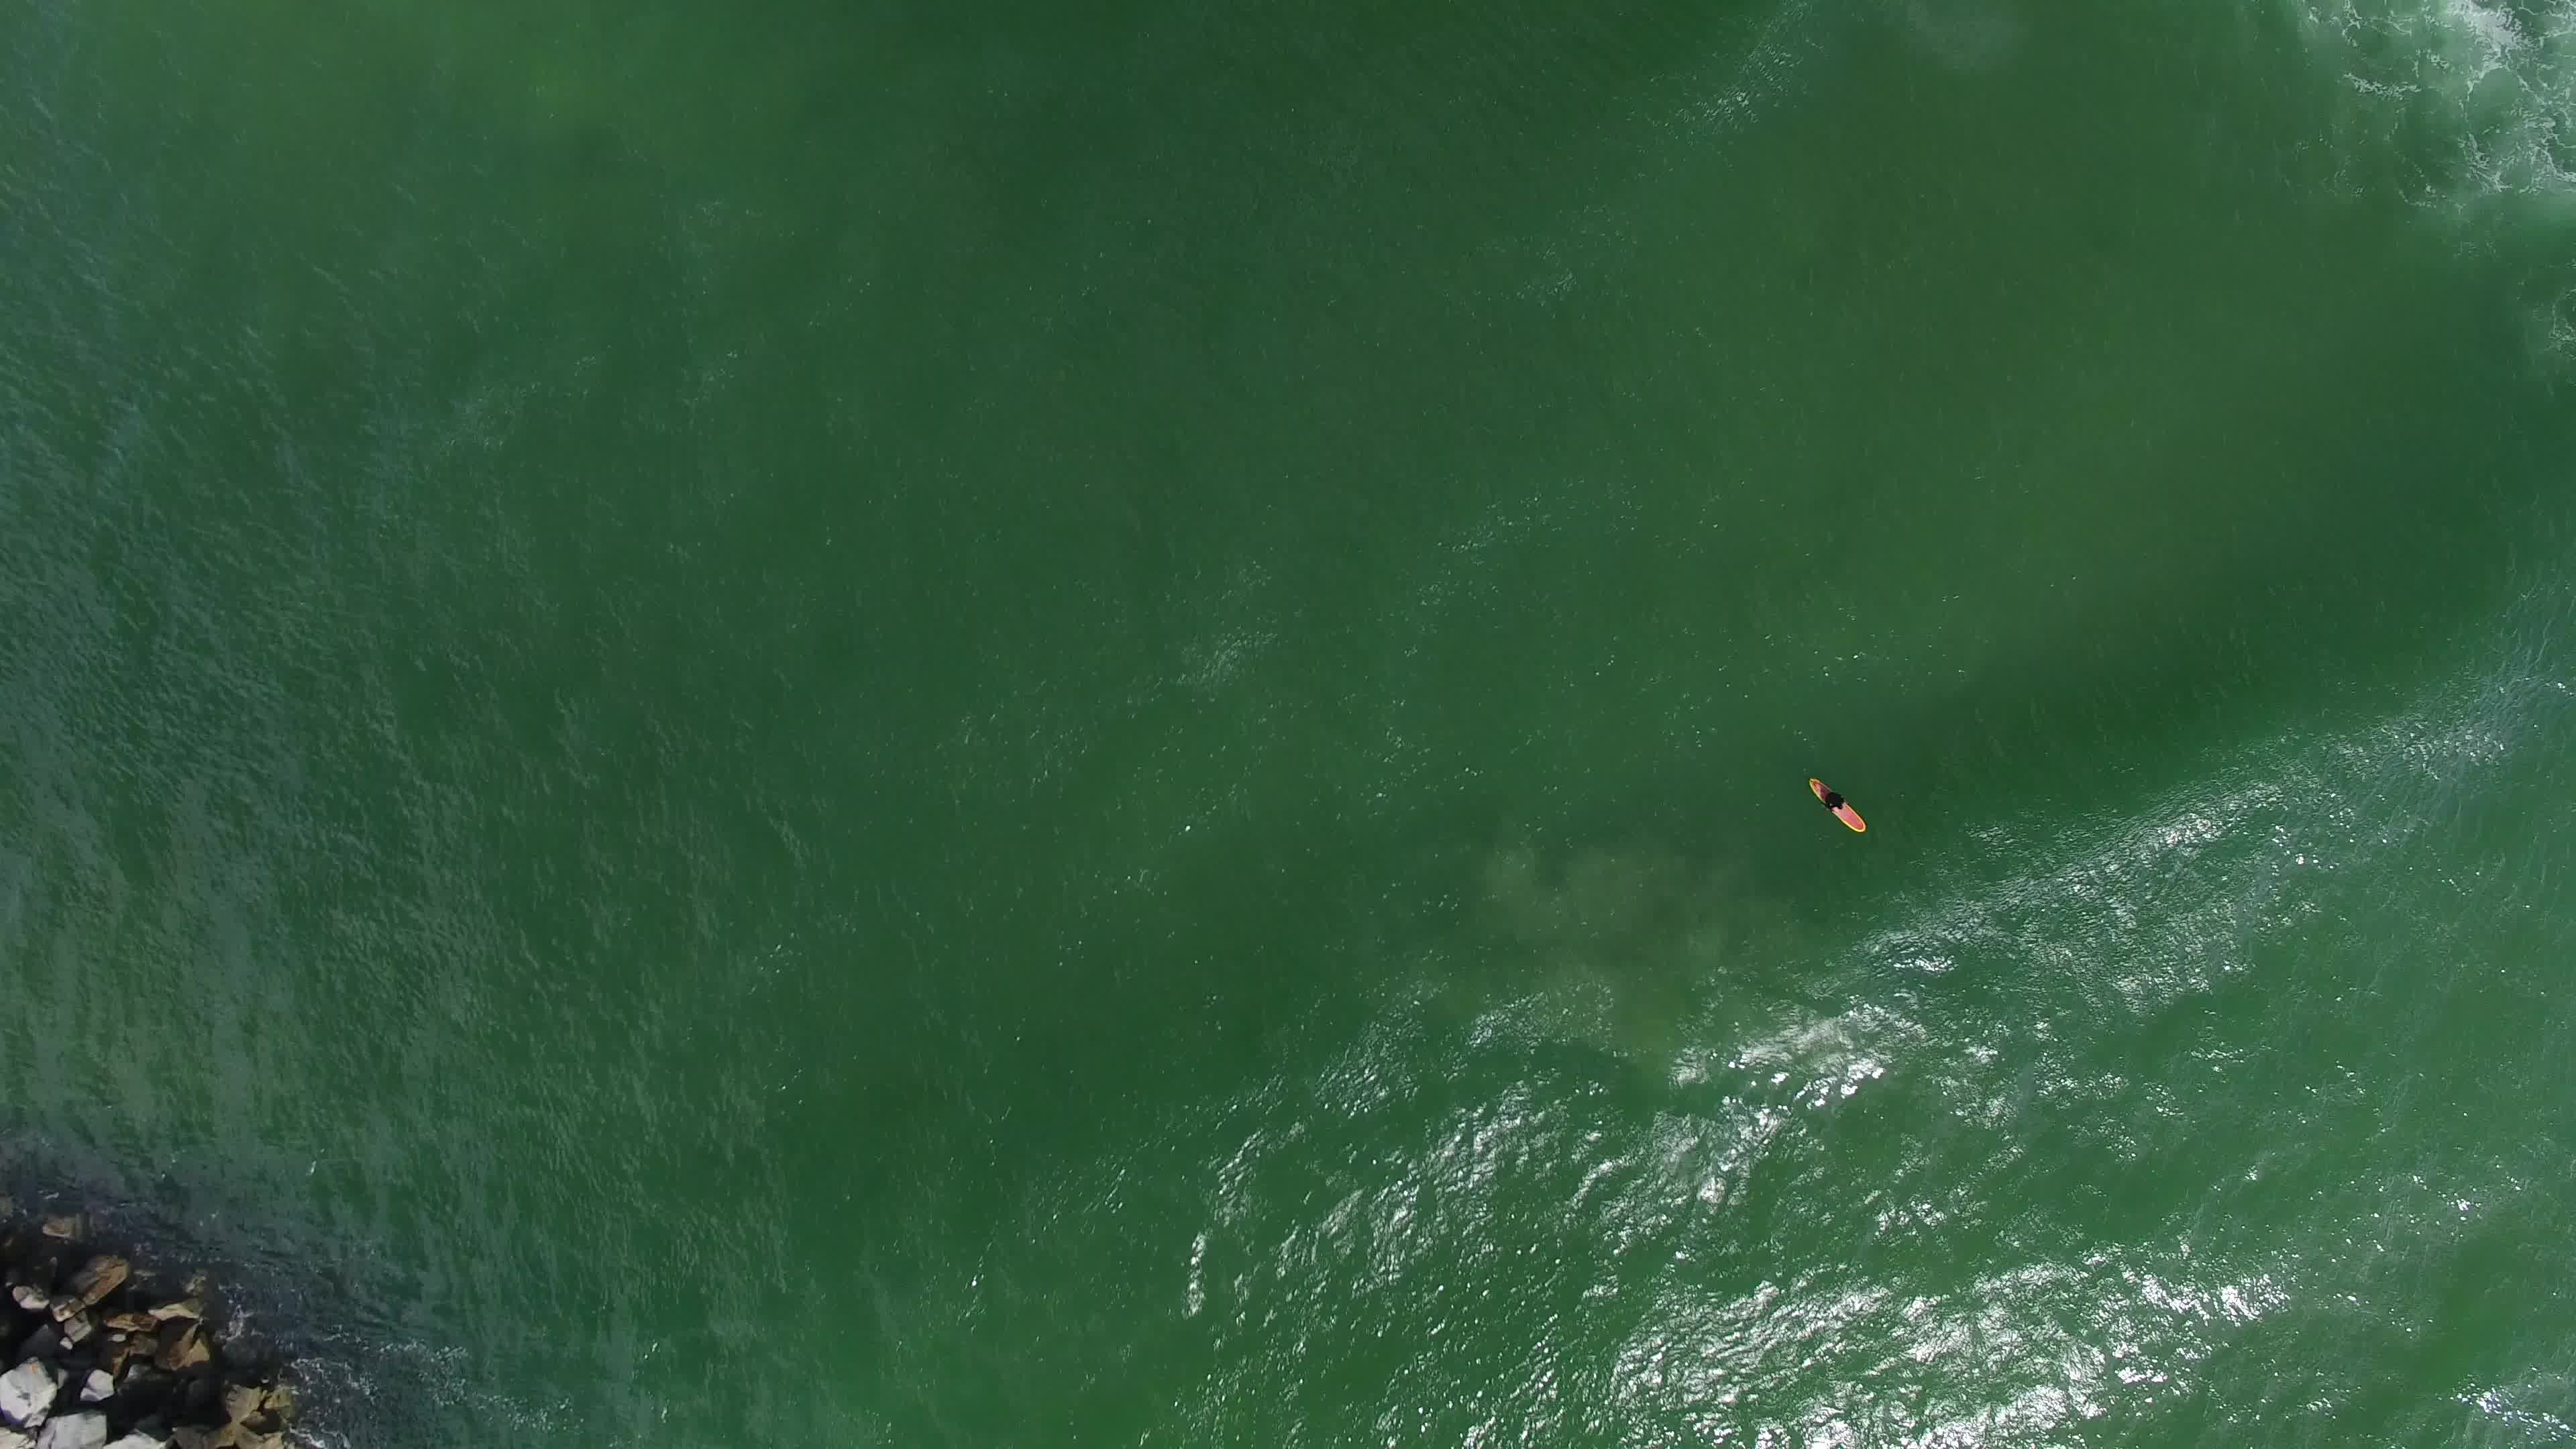surfer: (1801, 768, 1874, 842)
